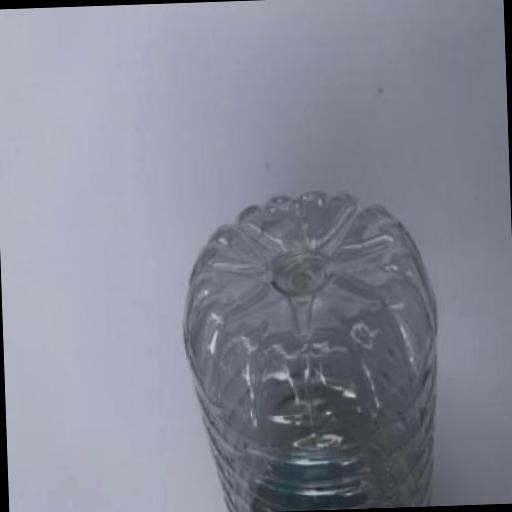plastic: (176, 183, 442, 512)
